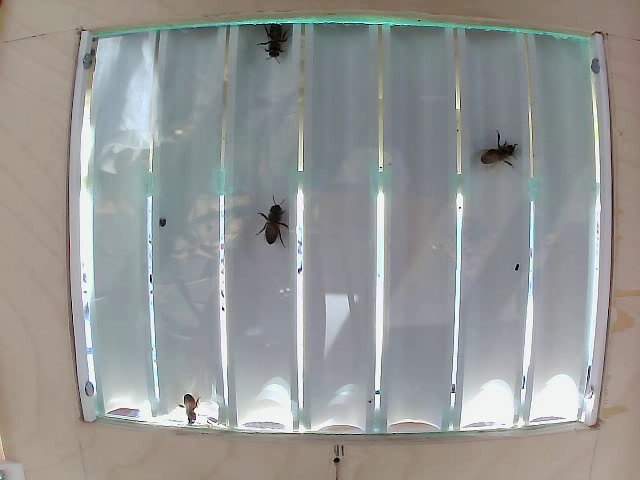bee: (252, 194, 306, 246), (475, 126, 530, 172), (260, 16, 299, 67)
